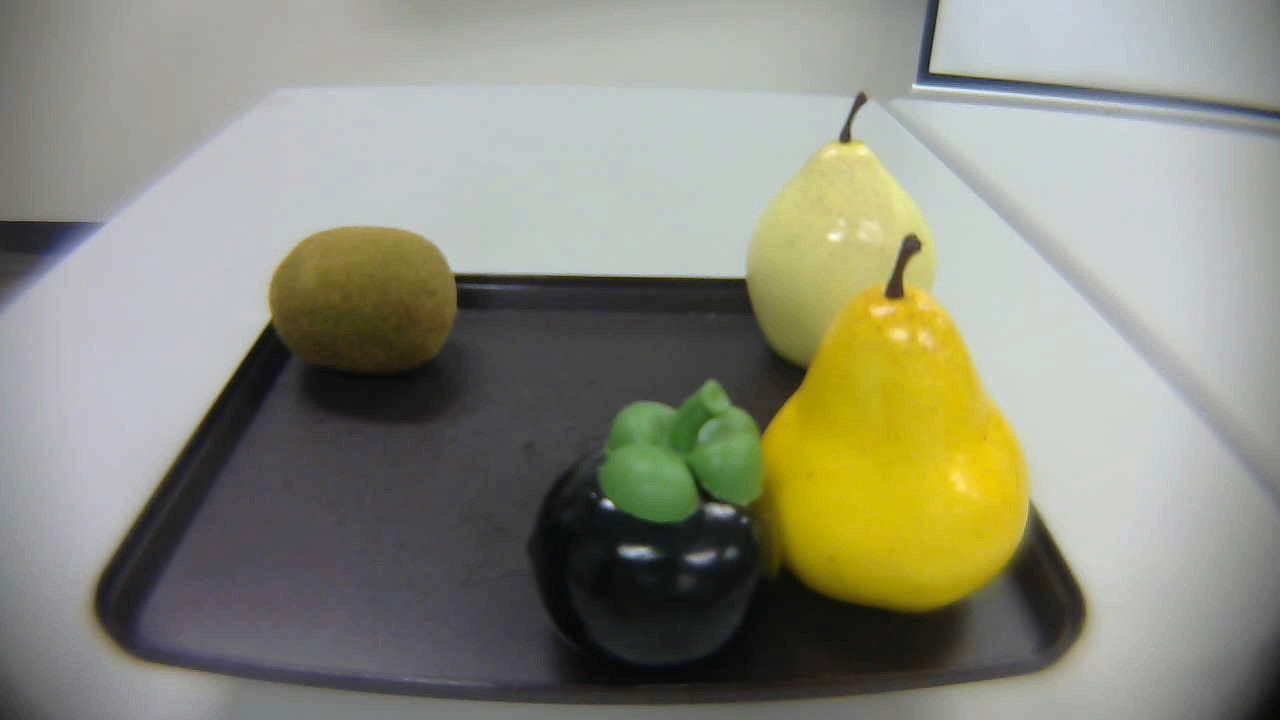kiwi fruit: (262, 218, 467, 374)
mangosteen: (525, 381, 773, 678)
western pear: (733, 93, 950, 384)
yellow pear: (752, 233, 1050, 629)
